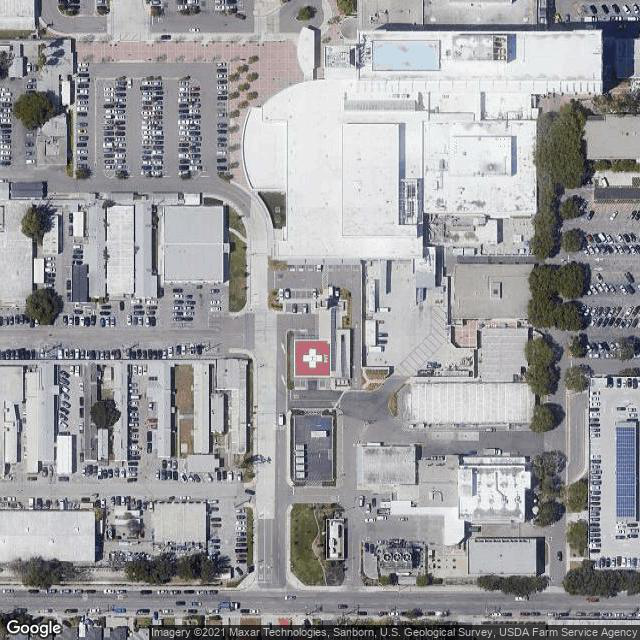Helipad: (293, 340, 328, 374)
